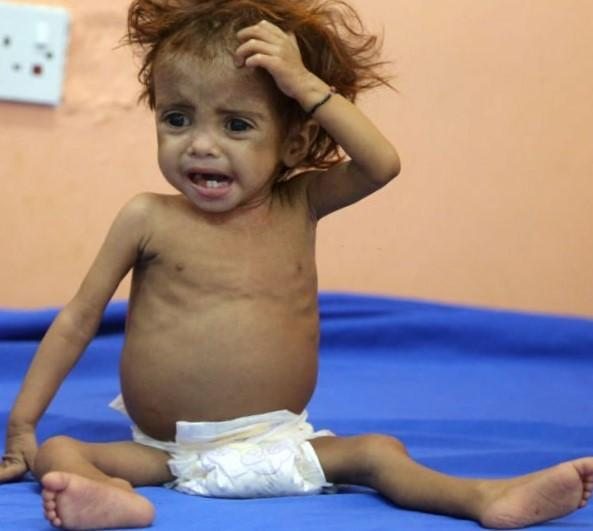Stunting: (130, 17, 369, 243)
